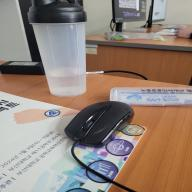mouse: (63, 99, 135, 148)
